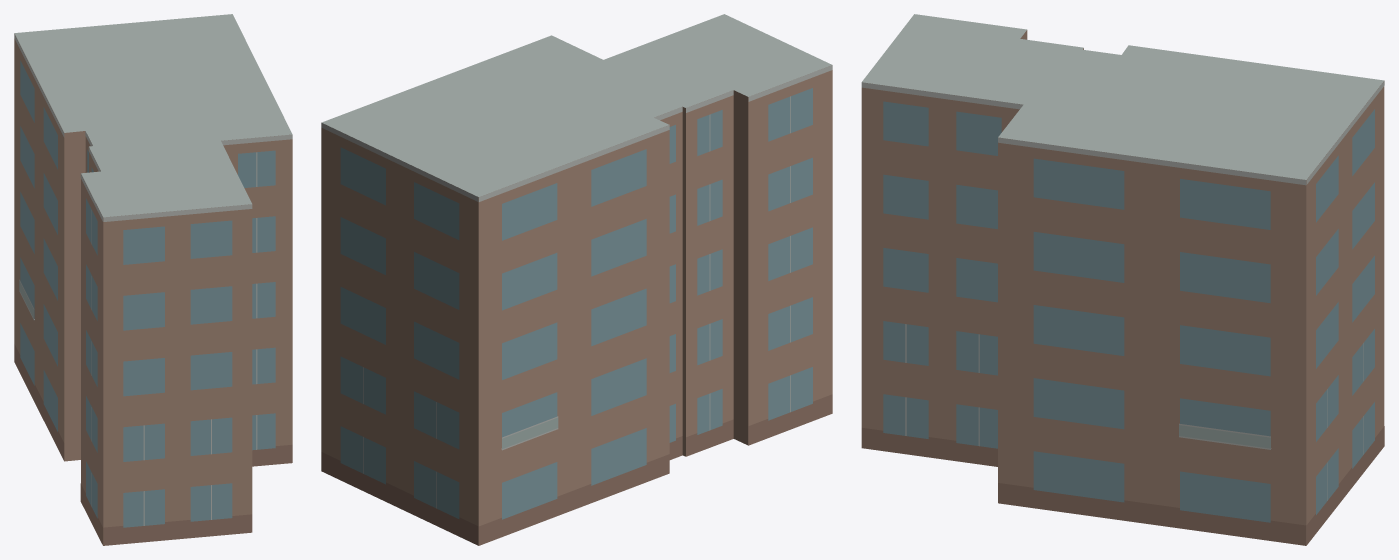
File: survey-upis-32536608.glb
The picture shows the model from 3 angles, left to right: view 1: azimuth 30°, elevation 25°; view 2: azimuth 150°, elevation 25°; view 3: azimuth 270°, elevation 25°; orthographic projection. The views are drawn at different scales.
Visible parts, largest first — view 1: survey-upis-32536608.tmp; view 2: survey-upis-32536608.tmp; view 3: survey-upis-32536608.tmp.
Part boxes in pixels (bbox=[...]): survey-upis-32536608.tmp: bbox=[14, 14, 292, 545]; survey-upis-32536608.tmp: bbox=[321, 14, 832, 545]; survey-upis-32536608.tmp: bbox=[861, 14, 1384, 545].
Bounding box in the file's own units: 16.42 × 16.86 × 21.85.
